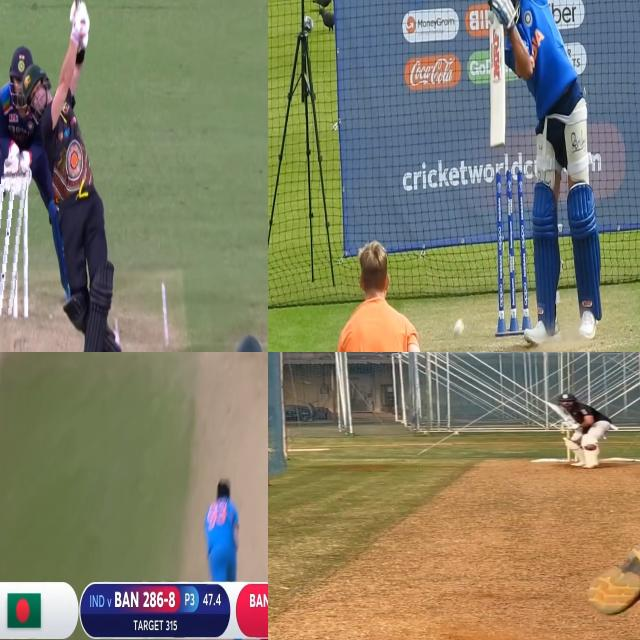Cricket ball: (453, 316, 467, 342), (584, 443, 598, 451)
Stumps: (494, 169, 530, 343), (0, 169, 29, 322)
